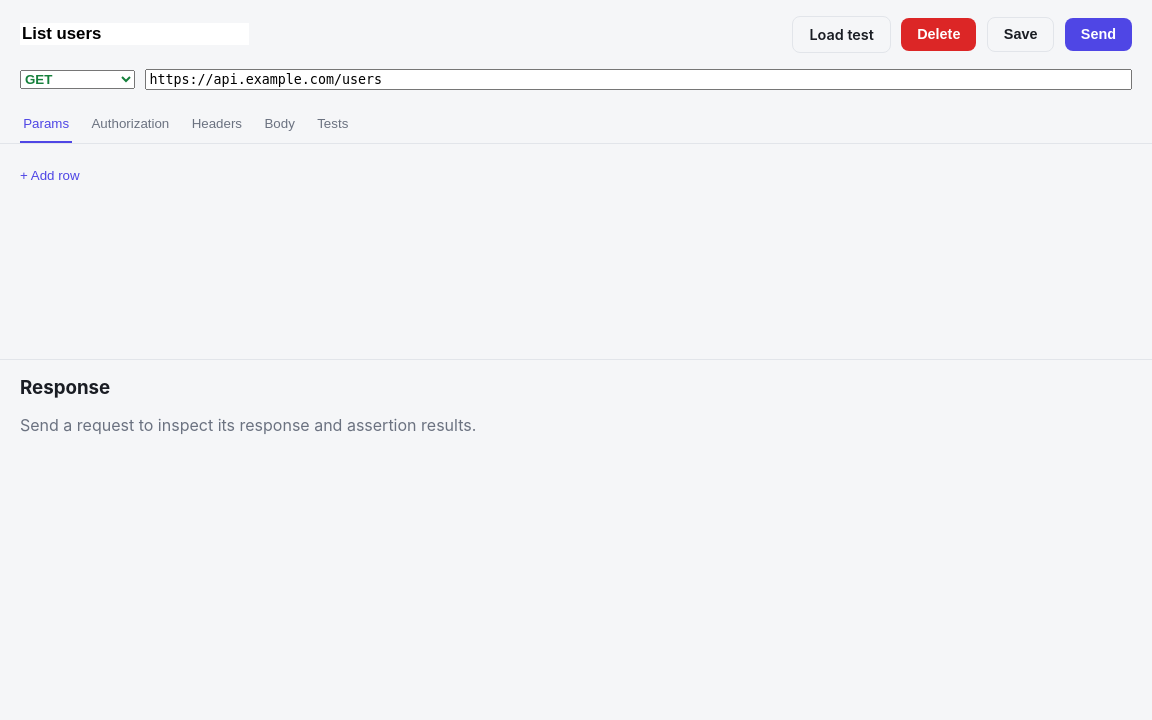
API testing components › executes a saved request and renders response details
What coordinates should you click on to do the following:
click the button "Send"
I would click on:
 (1098, 34)
Its box is top-left (1065, 18), bottom-right (1132, 51).
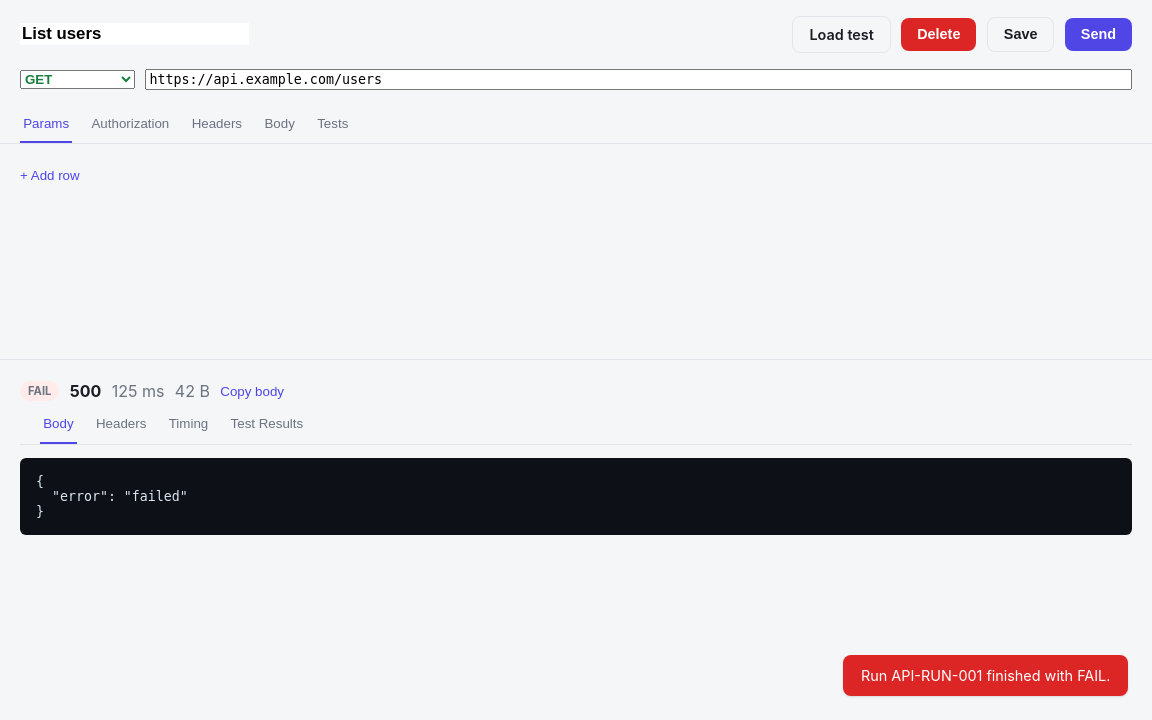
Check: the text "500" is shown, box top-left (70, 381), bottom-right (101, 401)
What coordinates should you click on to do the following:
click the button "Test Results"
I would click on:
 (267, 425)
Its box is top-left (227, 406), bottom-right (306, 444).
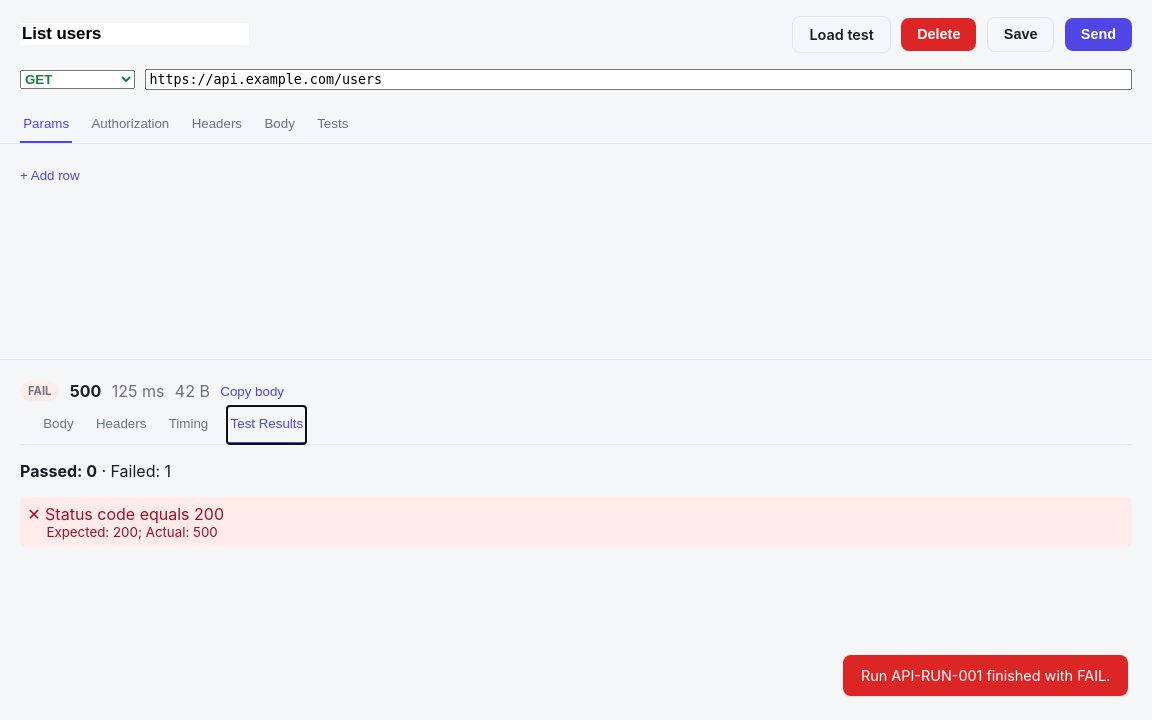
Check: the text "✕ Status code equals 200 Expected: 200; Actual: 500" is shown, box top-left (20, 496), bottom-right (1132, 547)
